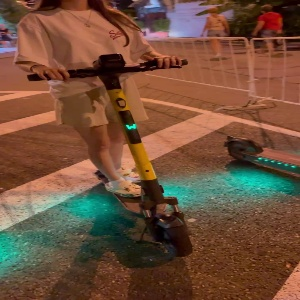human on a scooter: (12, 1, 190, 259)
